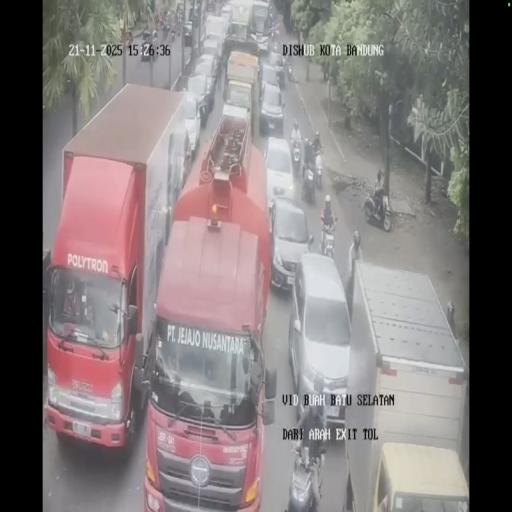car: (289, 254, 351, 433), (269, 193, 311, 293), (262, 136, 294, 215), (186, 72, 213, 133), (259, 80, 284, 134), (266, 48, 285, 86), (202, 36, 222, 70), (220, 3, 232, 31), (183, 20, 193, 44)
motorcycle: (363, 186, 391, 231), (319, 214, 337, 256), (290, 139, 302, 175), (313, 154, 323, 190), (271, 21, 281, 43), (163, 18, 170, 38), (152, 38, 159, 58), (175, 17, 182, 36), (287, 60, 293, 81), (169, 24, 175, 42), (202, 6, 206, 24)
truck: (46, 82, 194, 454), (338, 262, 468, 512), (222, 49, 261, 139), (245, 0, 271, 55), (176, 2, 184, 20)
